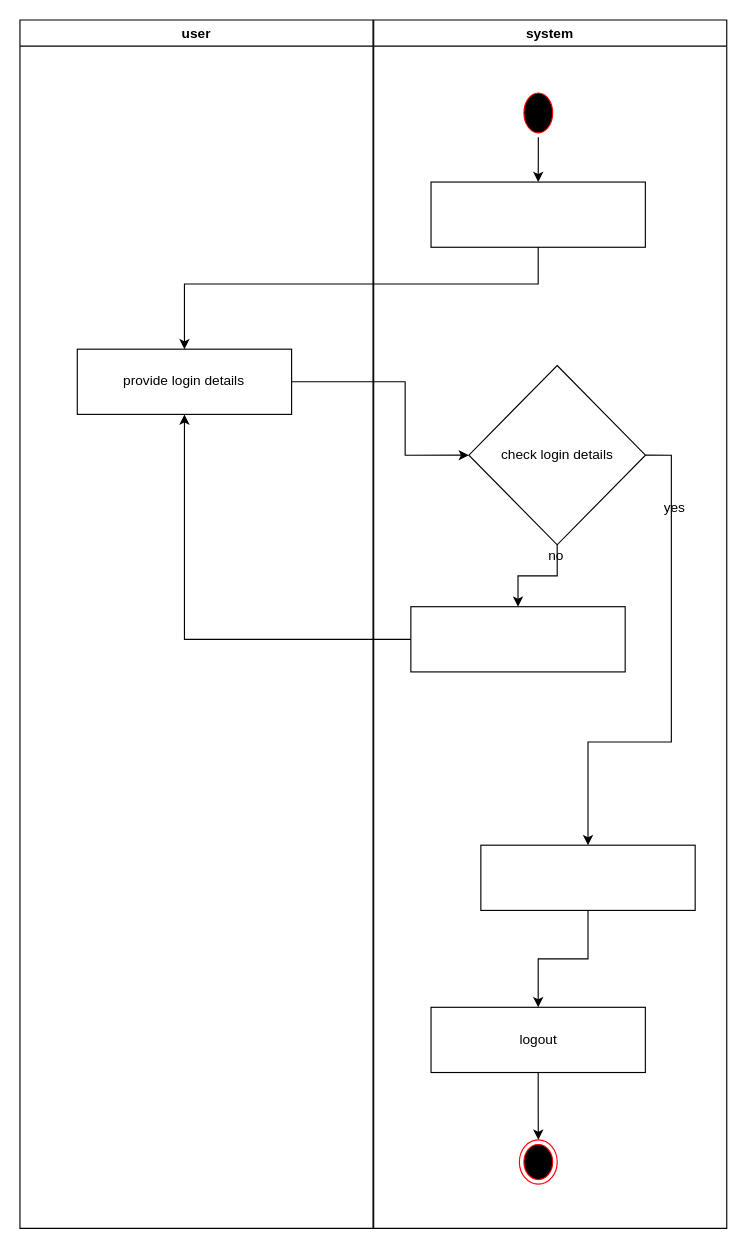
The diagram is 747 pixels wide and 1248 high, and some of its shapes have lost their labels. Each missing label, with the centre of its shape:
"display error" belongs at point 517,639.
"Display user login page" belongs at point 537,214.
"login to the system" belongs at point 587,877.
